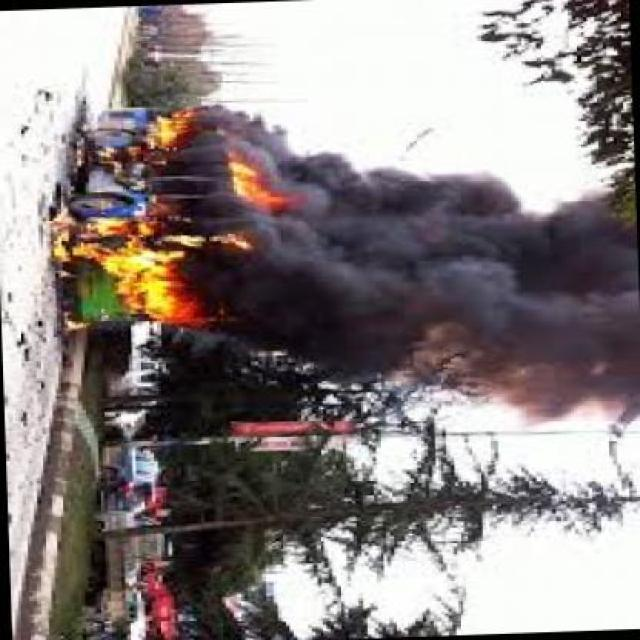Fire: (51, 222, 192, 324), (232, 151, 278, 214), (156, 100, 190, 154)
Smoke: (305, 142, 640, 424), (202, 258, 310, 350)
